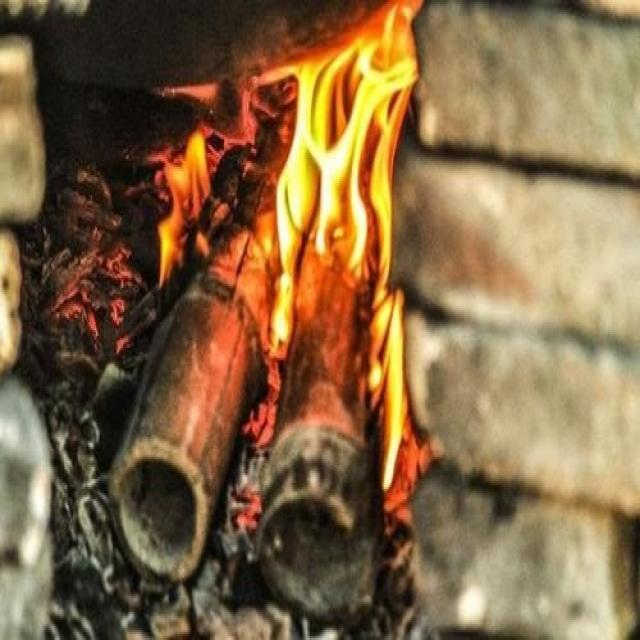Fire: (270, 2, 419, 493), (156, 131, 211, 292)
